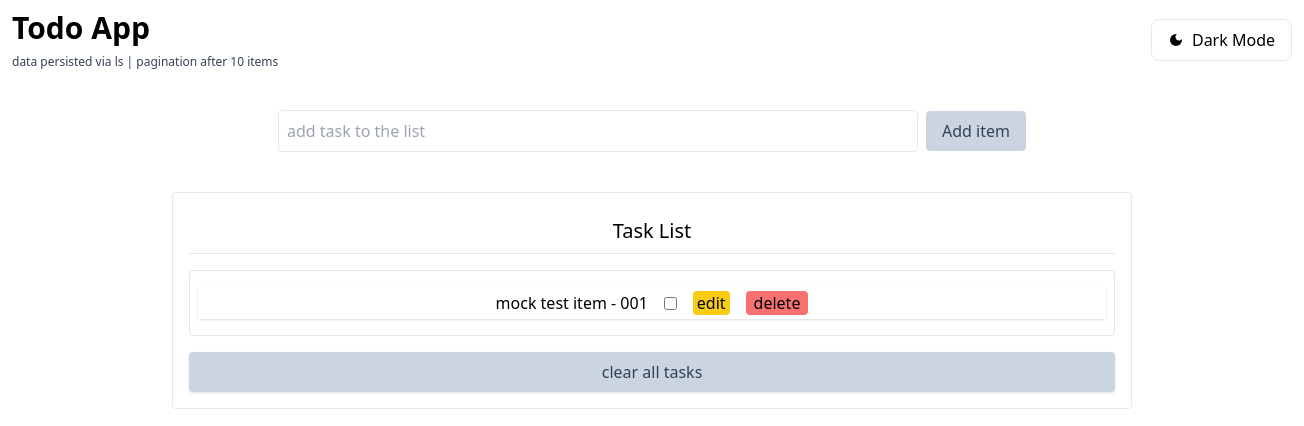
Test: Home › should update mock test string text when clicked on update button
# firing edit button click
Click the button "edit".
click(711, 303)  # box [693,291,730,315]
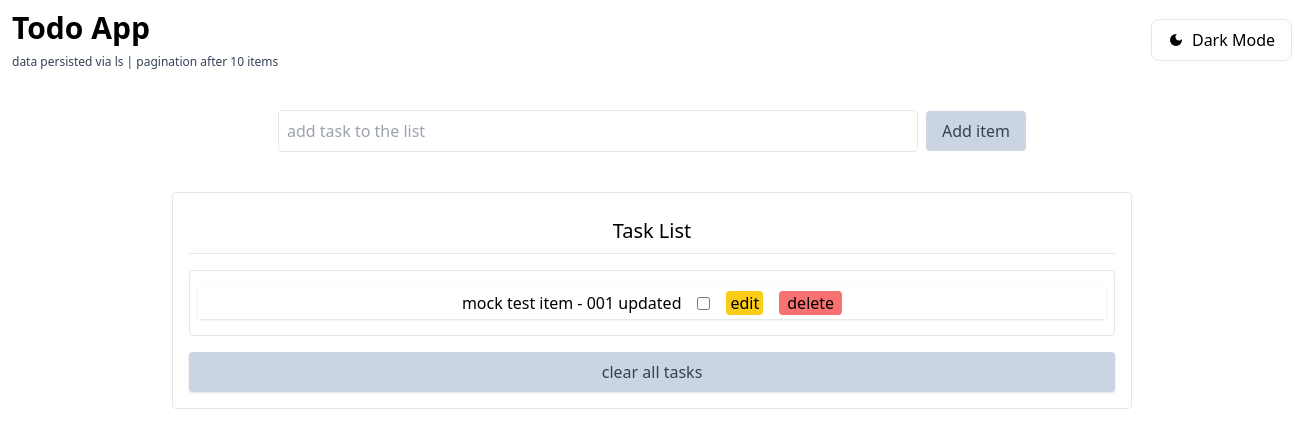
Check: the text with test id "taskString" reads "mock test item - 001 updated", box [462,292,682,314]
